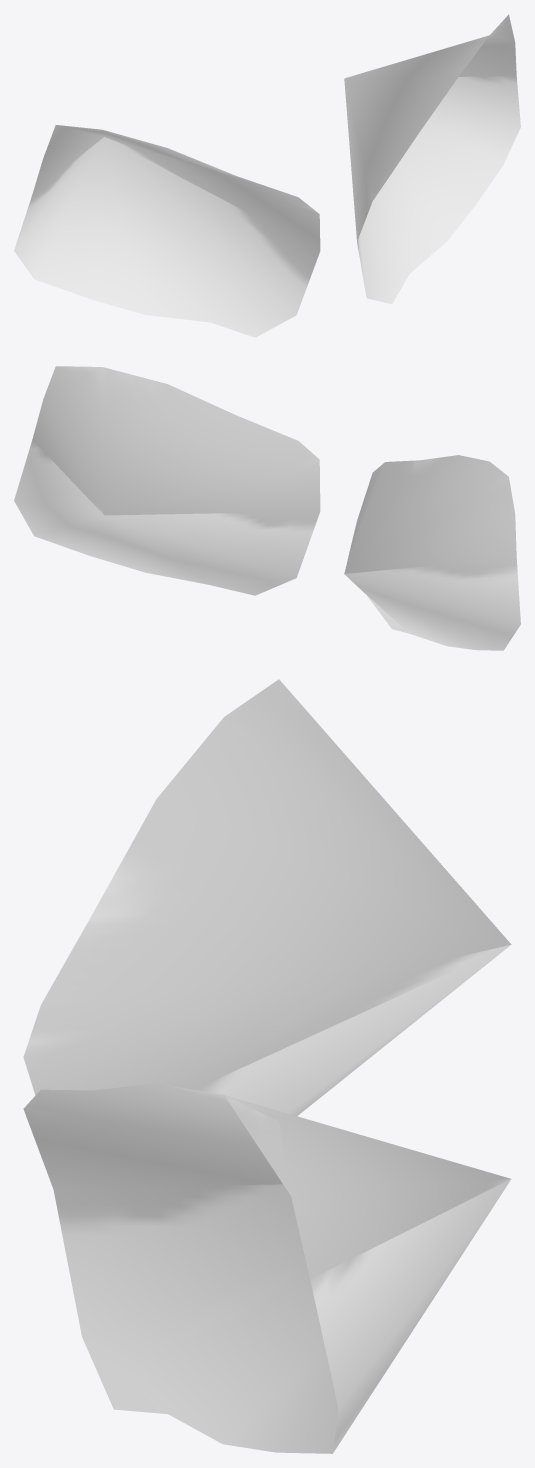
File: Carmelita_Animations7.glb
3 views of the same model, one above another, from view 1: azimuth 30°, elevation 25°; view 2: azimuth 150°, elevation 25°; view 3: azimuth 270°, elevation 25° (orthographic). The views are drawn at different scales.
Visible parts, largest first — view 1: Head_LP; view 2: Head_LP; view 3: Head_LP.
Boxes of the visible parts, x1,y1,x2,y2 form: Head_LP: (14,14,520,337); Head_LP: (14,366,520,650); Head_LP: (23,679,511,1453).
Bounding box in the file's own units: 0.1503 × 0.0627 × 0.0627.
Materials: 1 (1 with a texture image).
